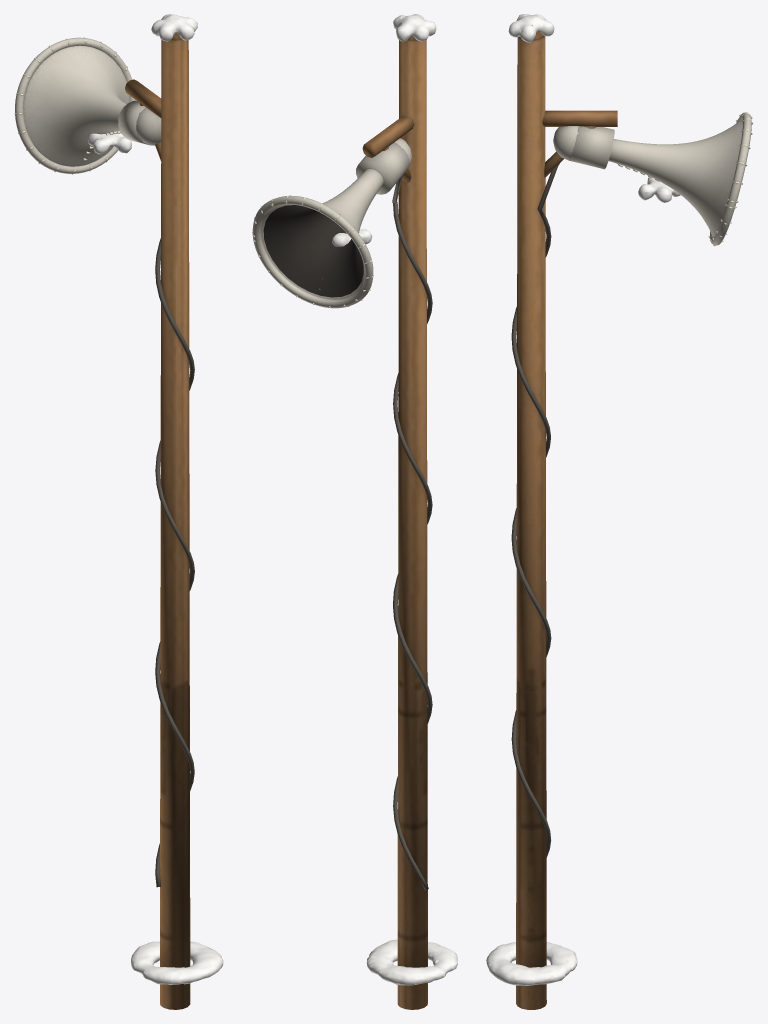
Rendered from speaker_pole.glb.
The picture shows the model from 3 angles, left to right: view 1: azimuth 30°, elevation 25°; view 2: azimuth 150°, elevation 25°; view 3: azimuth 270°, elevation 25°; orthographic projection.
Visible parts, largest first — view 1: speaker_pole_wood, speaker_pole_horn, speaker_pole_cable, speaker_pole_base, speaker_pole_cap, speaker_pole_hornsnow; view 2: speaker_pole_wood, speaker_pole_horn, speaker_pole_horn_in, speaker_pole_cable, speaker_pole_base, speaker_pole_cap; view 3: speaker_pole_wood, speaker_pole_horn, speaker_pole_cable, speaker_pole_base, speaker_pole_cap, speaker_pole_hornsnow.
Boxes of the visible parts, x1,y1,x2,y2 form: speaker_pole_wood: (125,33,190,1009); speaker_pole_horn: (15,37,161,173); speaker_pole_cable: (155,238,194,887); speaker_pole_base: (131,941,223,984); speaker_pole_cap: (151,14,197,41); speaker_pole_hornsnow: (87,131,131,154); speaker_pole_wood: (362,36,427,1009); speaker_pole_horn: (252,138,411,308); speaker_pole_horn_in: (263,205,363,297); speaker_pole_cable: (392,176,432,890); speaker_pole_base: (366,939,457,985); speaker_pole_cap: (393,14,436,41); speaker_pole_wood: (516,31,617,1009); speaker_pole_horn: (553,112,751,245); speaker_pole_cable: (511,163,559,857); speaker_pole_base: (486,942,577,985); speaker_pole_cap: (508,14,554,42); speaker_pole_hornsnow: (638,177,680,202).
Size of the model in its own units: 0.6762 by 5.3 by 1.3.
Materials: 8 (3 with a texture image).
